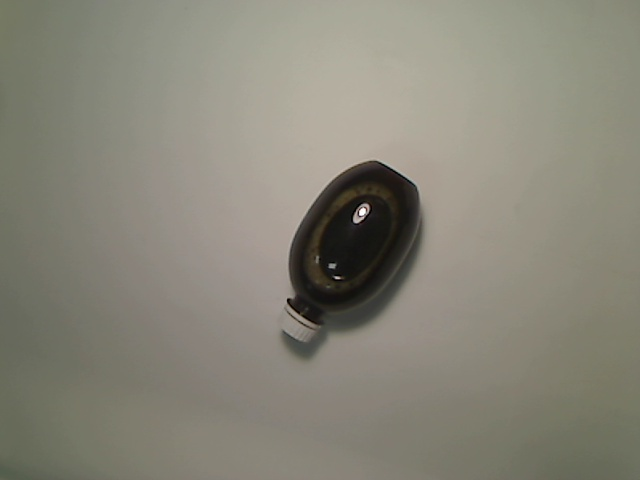plast_bottle: (277, 156, 425, 346)
